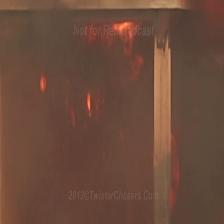fire: (82, 21, 144, 80)
